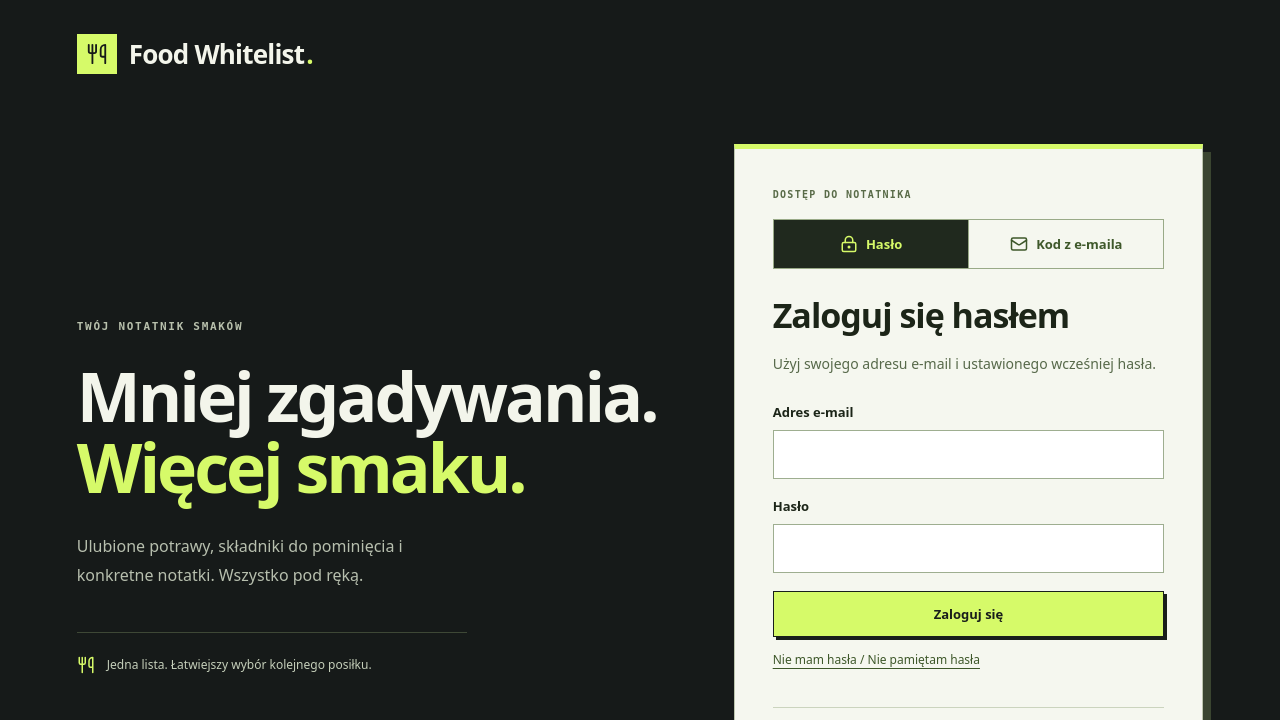
email-code login recovery › does not advance after a failed code request
Later steps or results of the test are not shown.
Click the button "Kod z e-maila". click: (1066, 244)
box: [968,220,1163,268]
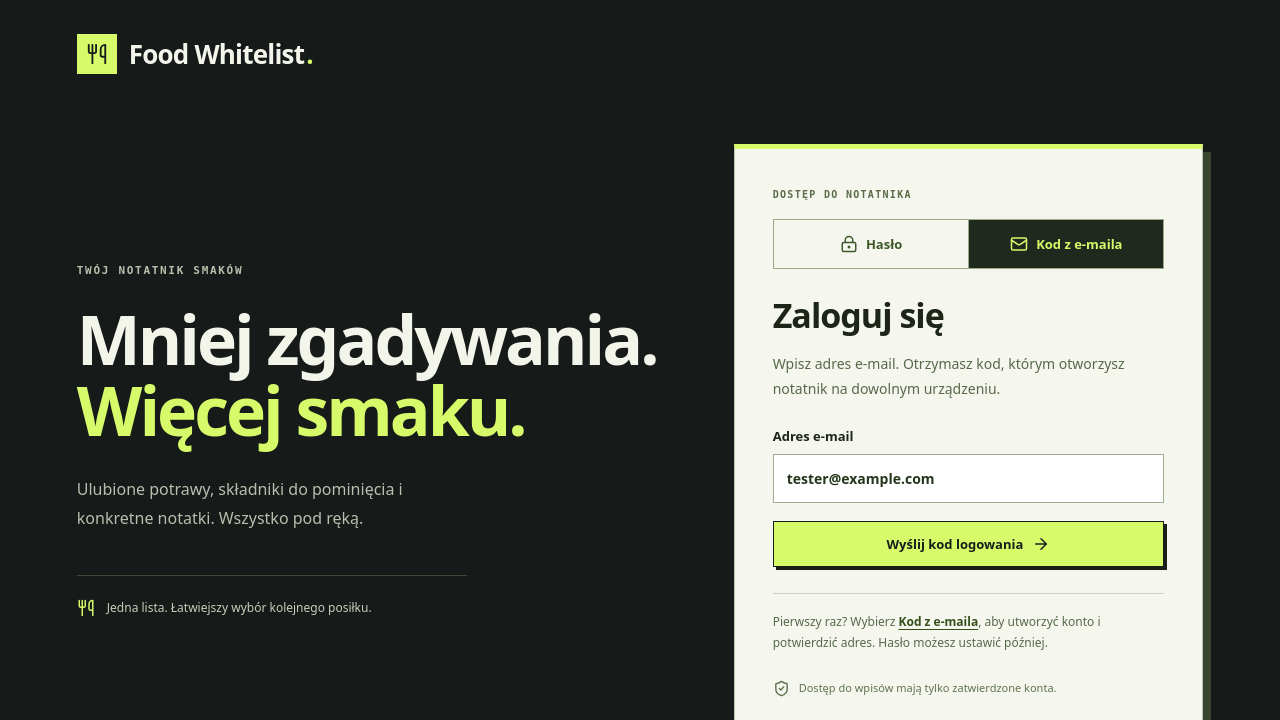
expect the field labelled "Adres e-mail" is shown: met, box [773,454,1164,504]
